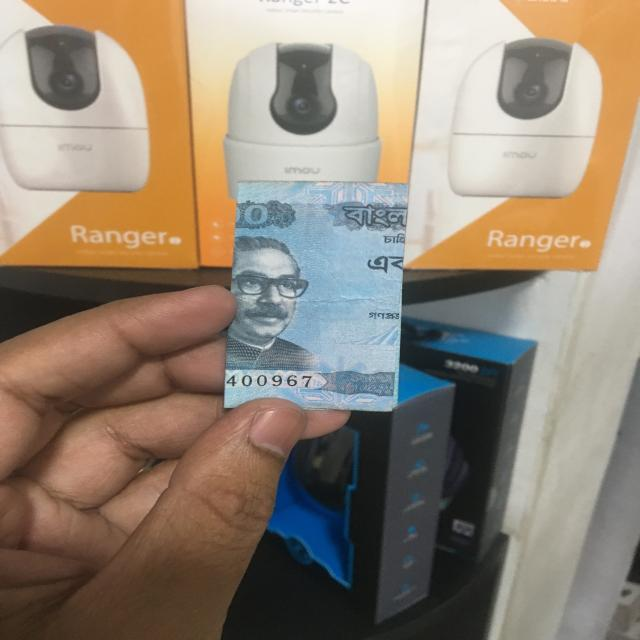Taka: (234, 178, 409, 408)
